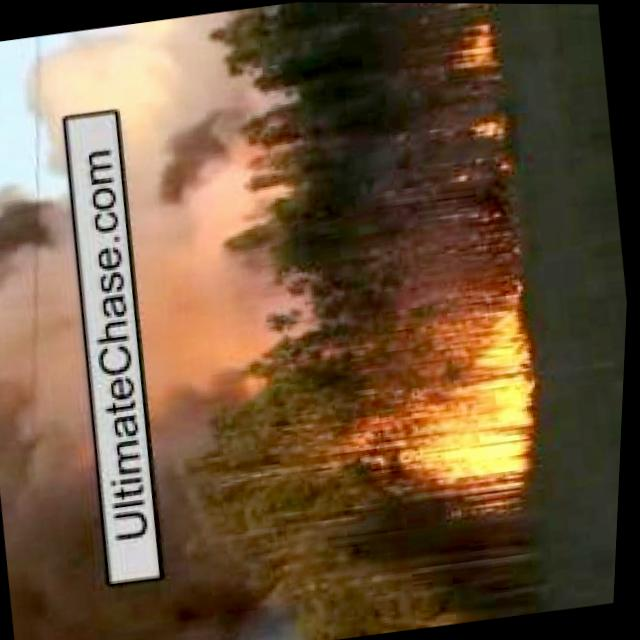Fire: (83, 6, 366, 640), (0, 36, 139, 640), (378, 289, 551, 499), (450, 19, 502, 73), (469, 107, 506, 146)
